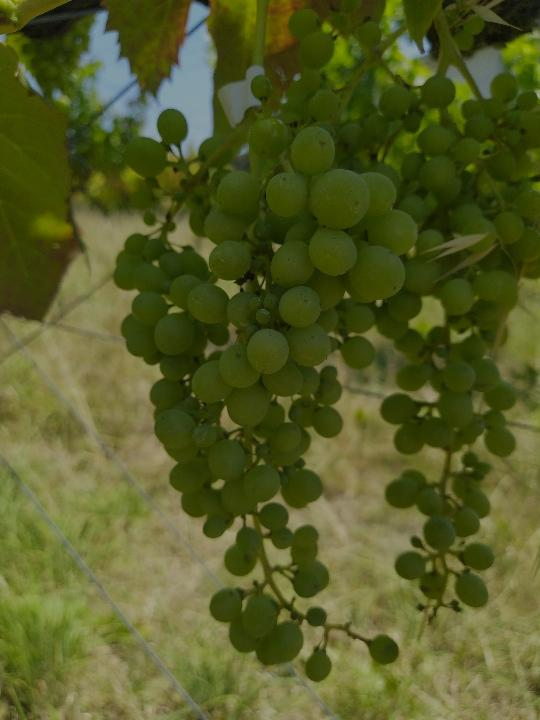grape: (106, 72, 422, 686)
